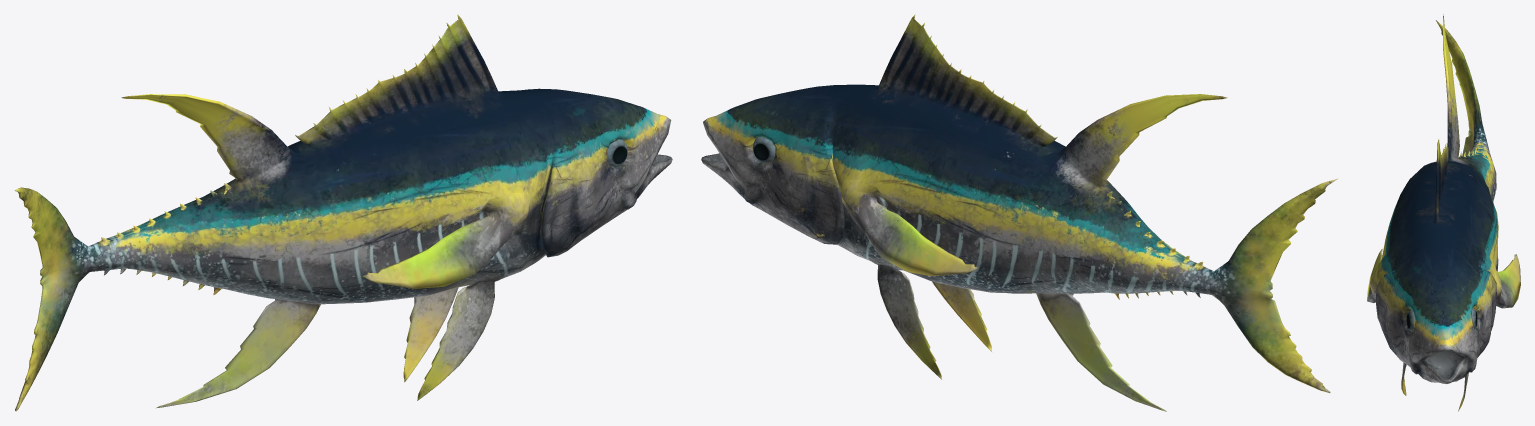
File: tuna.glb
3 renders of one model, left to right at view 1: azimuth 30°, elevation 25°; view 2: azimuth 150°, elevation 25°; view 3: azimuth 270°, elevation 25°, orthographic. The views are drawn at different scales.
Visible parts, largest first — view 1: Object_10.001; view 2: Object_10.001; view 3: Object_10.001.
Part boxes in pixels (bbox=[...]): Object_10.001: bbox=[14, 14, 672, 411]; Object_10.001: bbox=[701, 14, 1337, 411]; Object_10.001: bbox=[1367, 14, 1520, 411].
Size of the model in its own units: 1 by 0.5283 by 0.2548.
3 materials, 2 textured.
